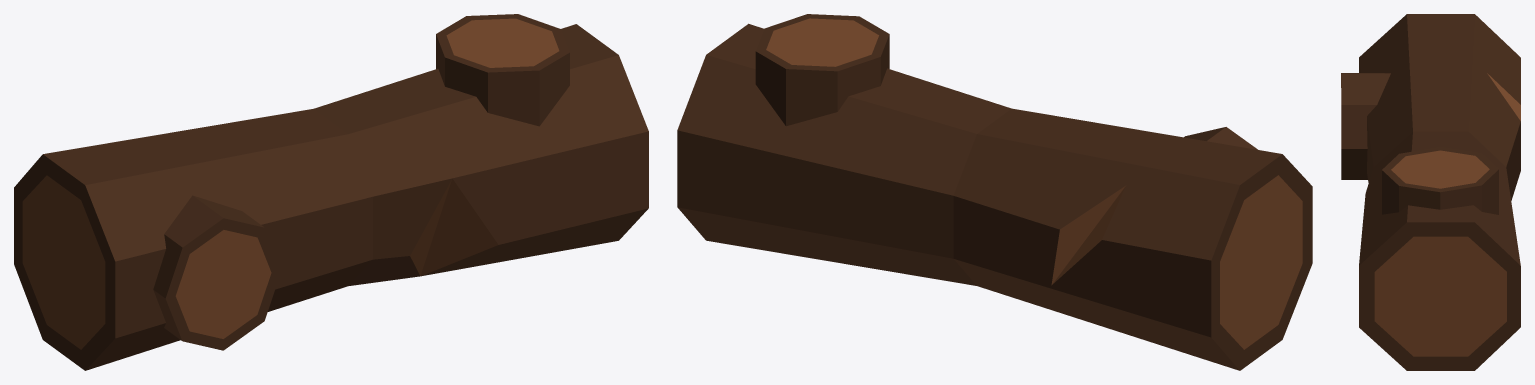
The model's file is Log_7_Dark_Brown.fbx.
3 views of the same model, side by side, from view 1: azimuth 30°, elevation 25°; view 2: azimuth 150°, elevation 25°; view 3: azimuth 270°, elevation 25° (orthographic). The views are drawn at different scales.
Parts seen in each view (by area): view 1: Log_7_Dark_Brown; view 2: Log_7_Dark_Brown; view 3: Log_7_Dark_Brown.
Part boxes in pixels (<box>): Log_7_Dark_Brown: <box>14,14,648,370</box>; Log_7_Dark_Brown: <box>677,14,1312,370</box>; Log_7_Dark_Brown: <box>1341,14,1520,370</box>.
Bounding box in the file's own units: 250 × 92.12 × 91.13.
